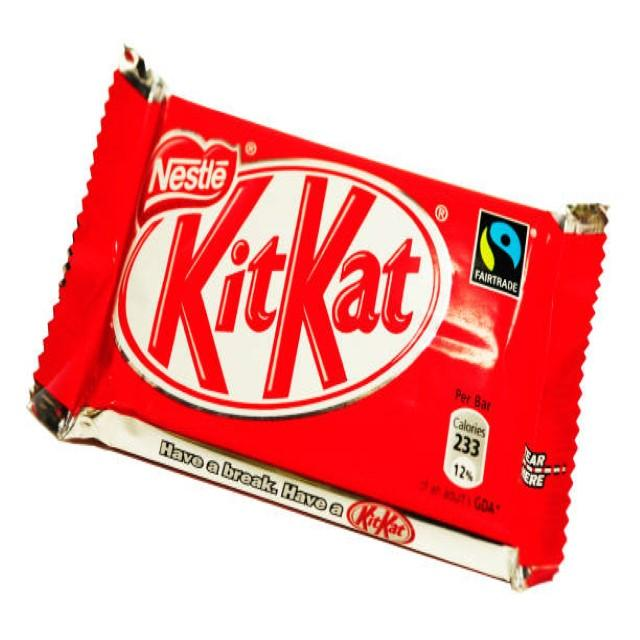kitkat_chocolate: (38, 65, 612, 595)
